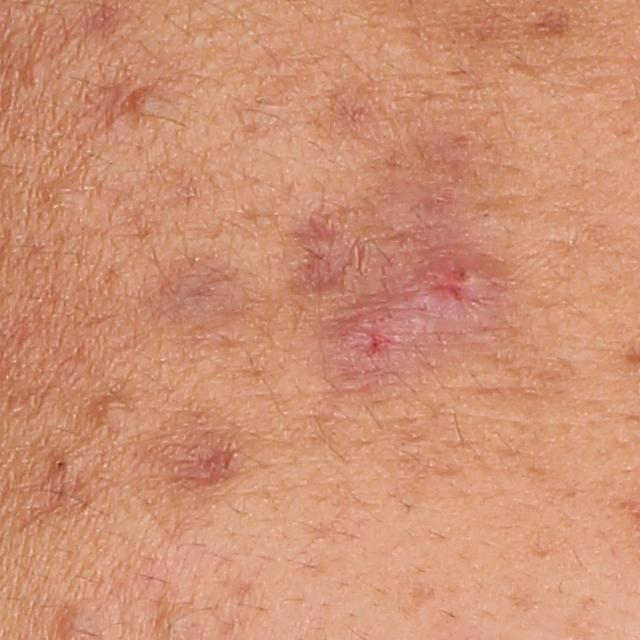atrophic_scar: (146, 430, 247, 489), (521, 7, 574, 42)
comedo: (94, 395, 134, 435), (159, 607, 186, 638), (21, 57, 49, 86), (48, 452, 71, 474)
papule: (399, 254, 493, 340), (328, 304, 404, 384)
